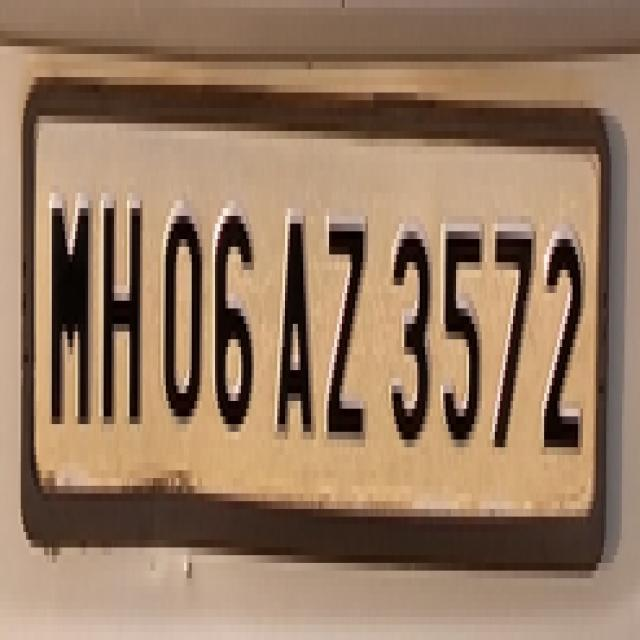0: (160, 192, 206, 424)
3: (383, 207, 433, 448)
5: (436, 200, 488, 450)
6: (208, 190, 258, 430)
7: (490, 205, 536, 458)
A: (271, 188, 315, 444)
H: (95, 180, 151, 452)
M: (41, 182, 100, 452)
Z: (322, 192, 372, 460)
